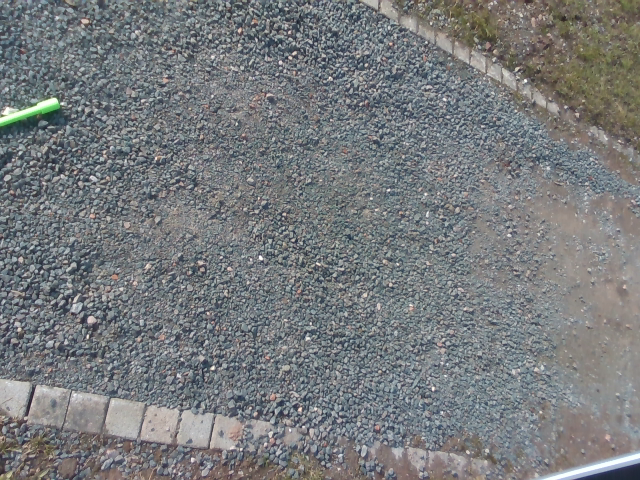Probe: (1, 93, 65, 132)
